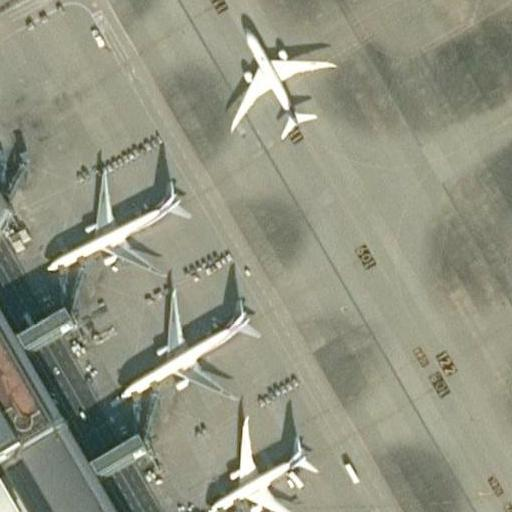Aircraft: (114, 282, 257, 414), (38, 165, 181, 286), (217, 14, 328, 143), (197, 406, 318, 512), (0, 0, 31, 8)
